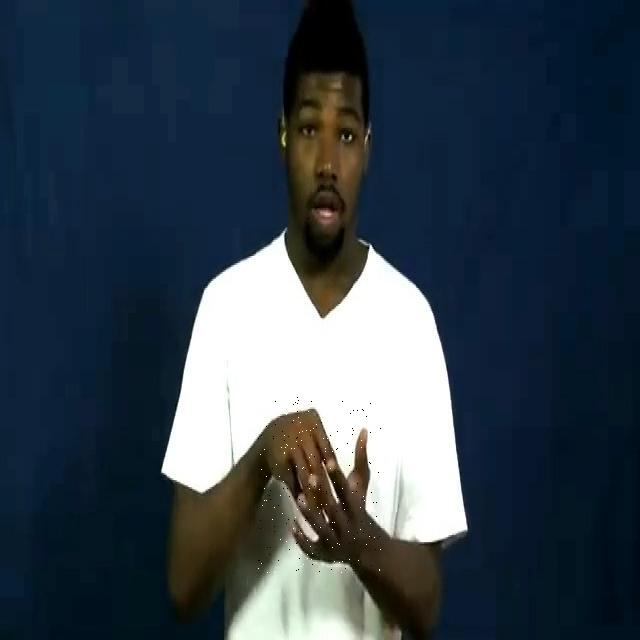fork: (258, 396, 384, 575)
